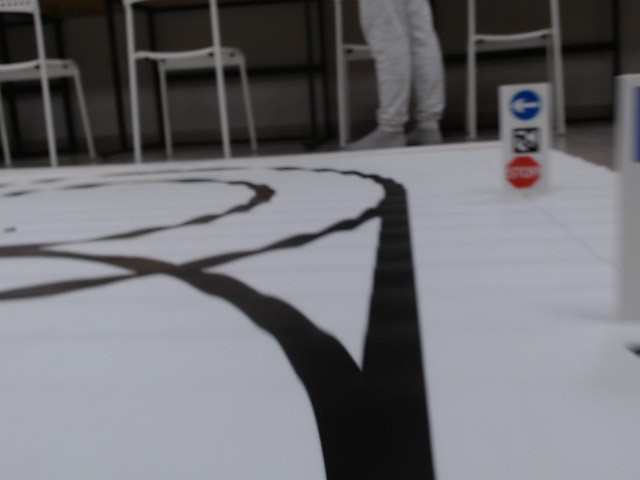Stop: (504, 155, 543, 189)
